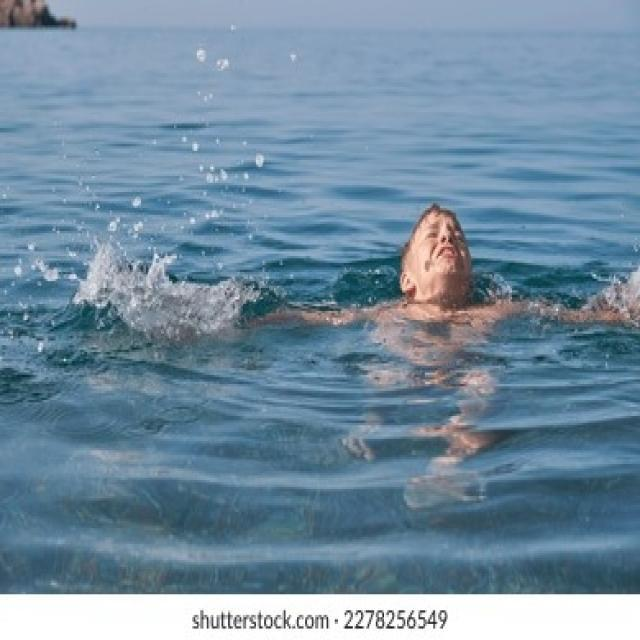drowning: (90, 140, 622, 480)
